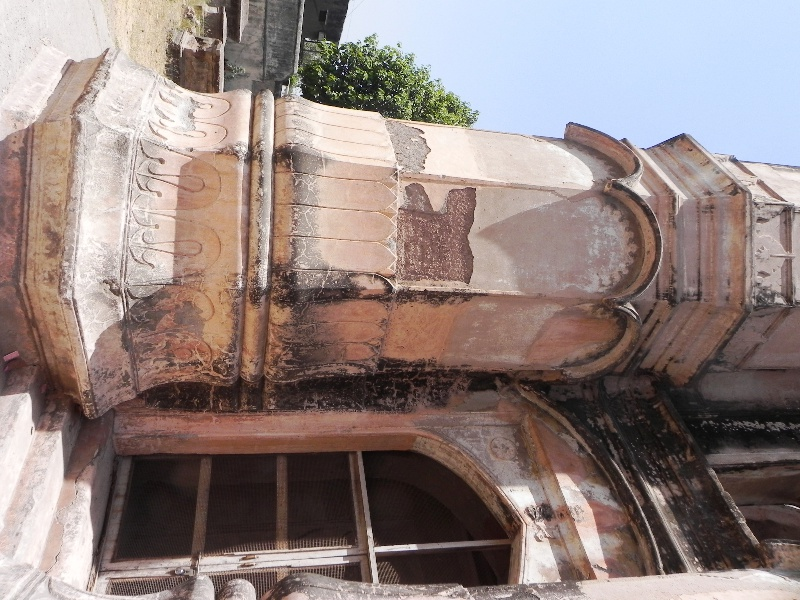Spalling: (392, 182, 480, 287), (383, 119, 434, 176), (99, 276, 125, 298)
